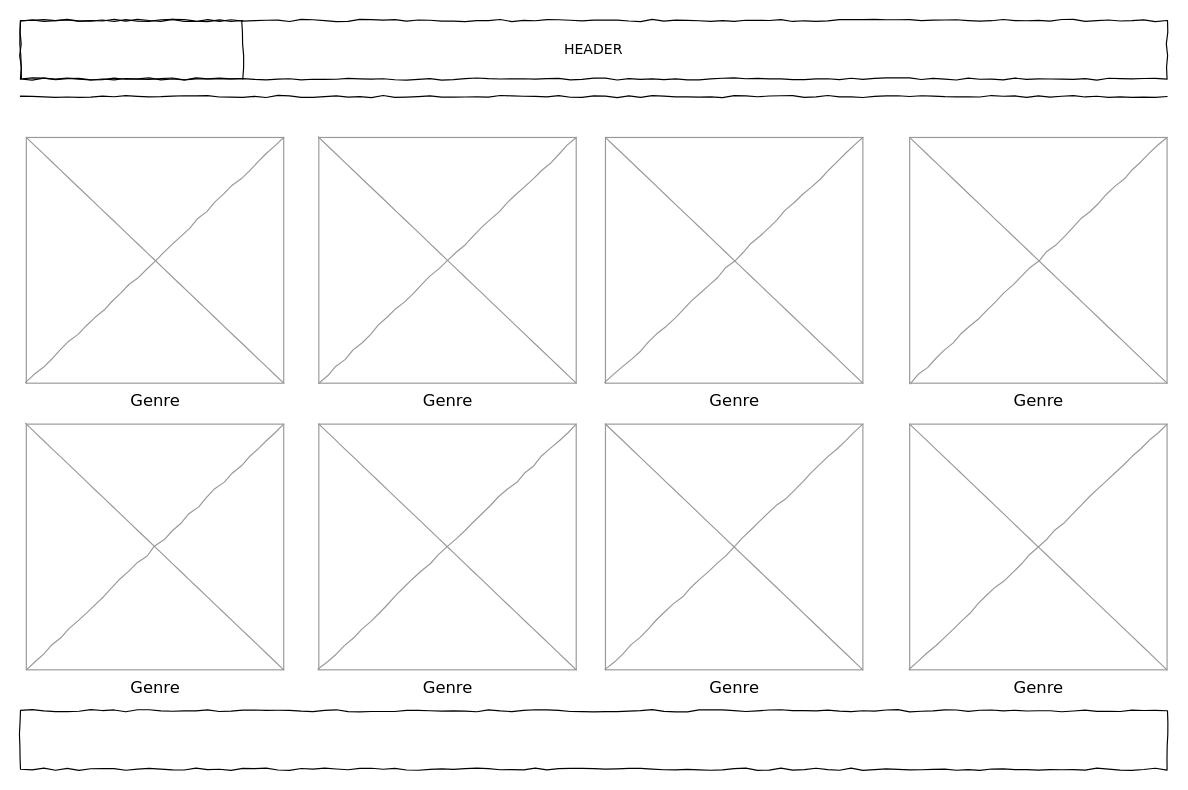
The diagram is 1188 pixels wide and 790 high, and some of its shapes have lost their labels. The shapes that lost their labels are listed below. From the top down, each one's centre as x and y in pixels, then its label:
At pixel 131 49: "LOGO".
At pixel 593 739: "Footer".
